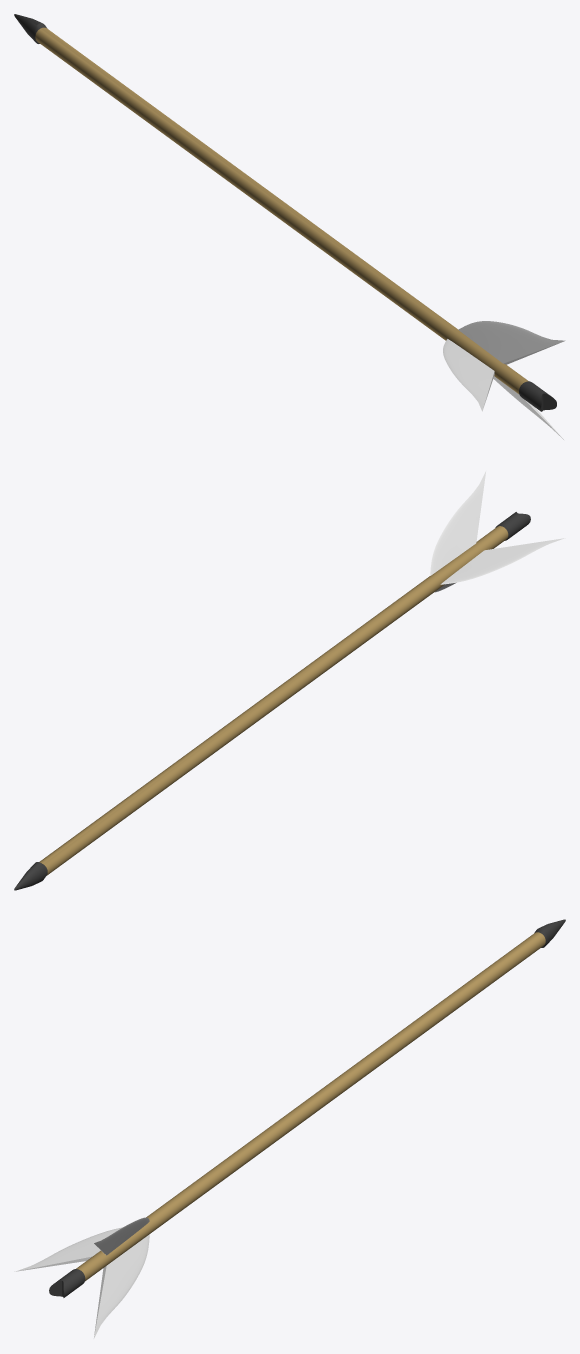
Rendered from arrow.glb.
3 views of the same model, one above another, from view 1: azimuth 30°, elevation 25°; view 2: azimuth 150°, elevation 25°; view 3: azimuth 330°, elevation 25° (orthographic). The views are drawn at different scales.
Visible parts, largest first — view 1: Arrow; view 2: Arrow; view 3: Arrow.
Part boxes in pixels (left/top/right/bottom): Arrow: left=14, top=14, right=565, bottom=439; Arrow: left=14, top=471, right=565, bottom=890; Arrow: left=14, top=919, right=565, bottom=1338.
Size of the model in its own units: 0.0666 by 0.0769 by 0.7373.
